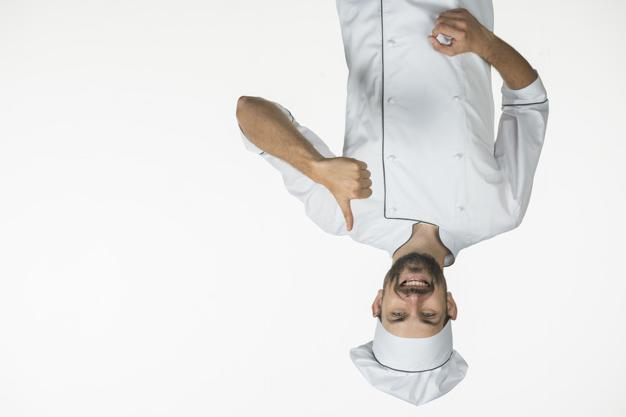thumbsdown: (337, 160, 373, 232)
